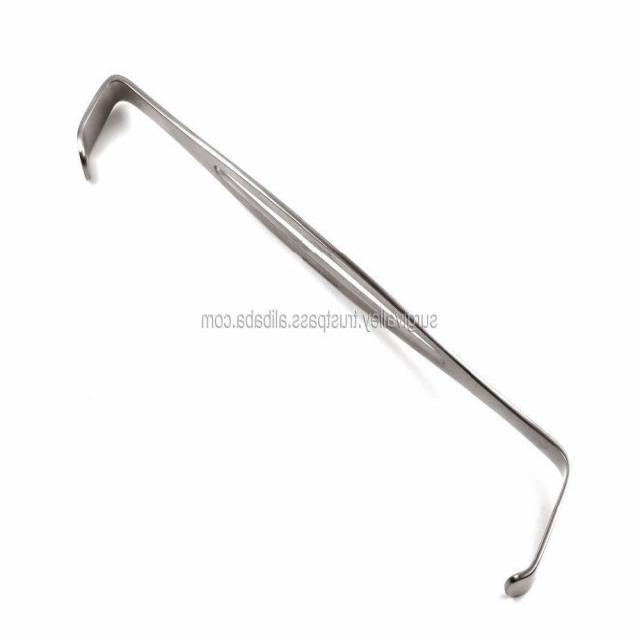Army_navy: (73, 71, 572, 604)
